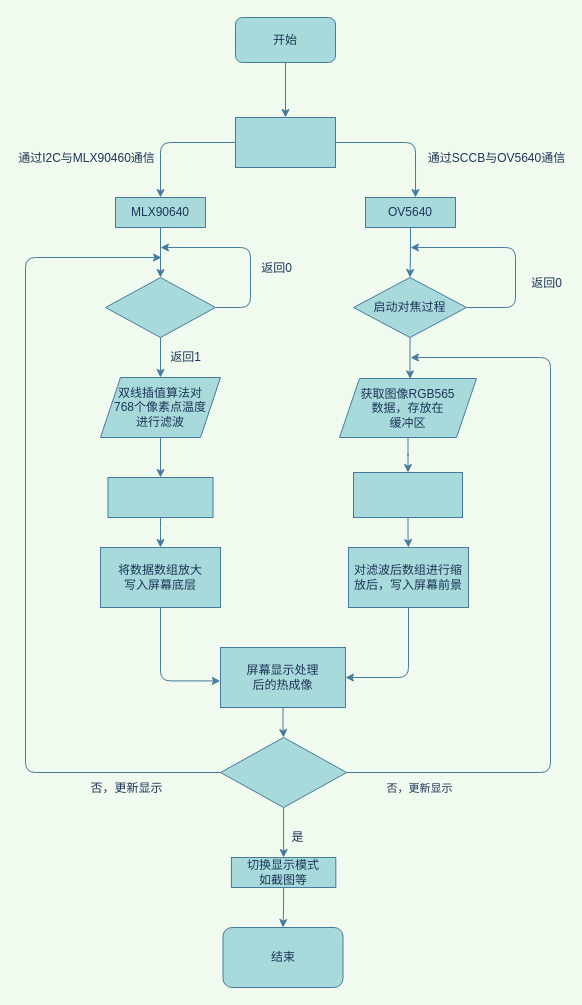
Some shapes in this 582 by 1005 pixel diagram are drawn without their labels. The shapes that lost their labels are listed below. From the top down, each one's box as (x1, y1, x2, y2) in pixels, then its label:
(234, 116, 336, 168): 时钟使能 屏幕，传感器 初始化
(104, 276, 216, 338): 获取一帧数据
(107, 476, 213, 518): 将温度转换为 RGB565颜色
(352, 472, 462, 518): 对缓冲区像素数组 进行滤波
(220, 736, 347, 808): 用户交互
